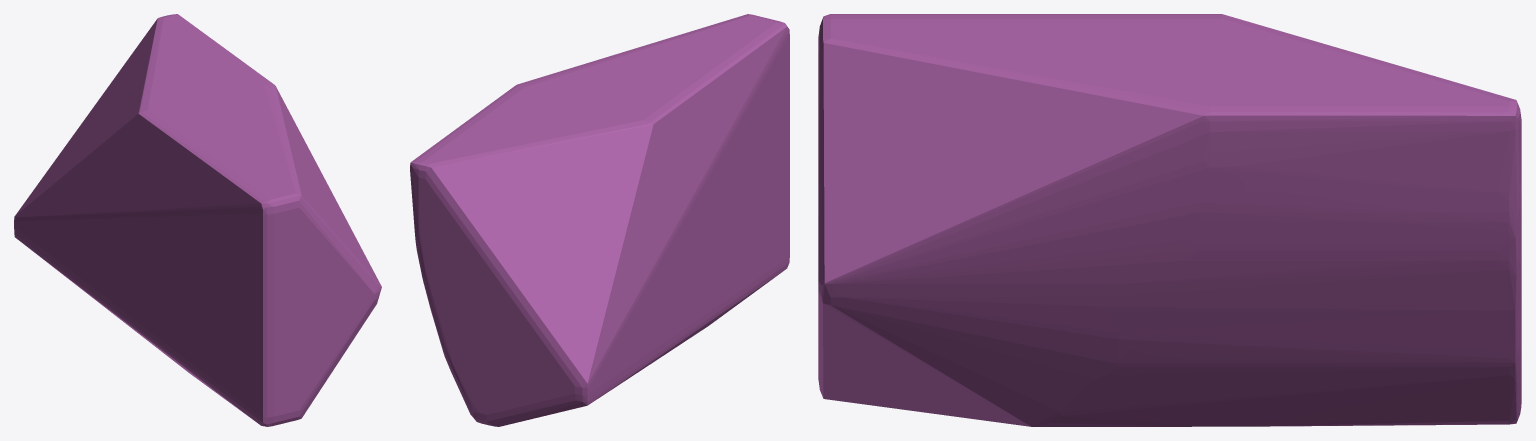
The model's file is right_shoulder_roll_link_part_7.obj.
3 views of the same model, side by side, from view 1: azimuth 30°, elevation 25°; view 2: azimuth 150°, elevation 25°; view 3: azimuth 270°, elevation 25° (orthographic). The views are drawn at different scales.
Size of the model in its own units: 0.019 by 0.0249 by 0.0442.
